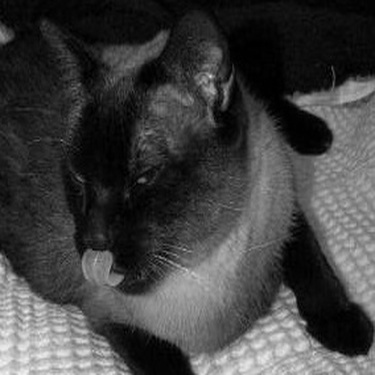cat: (1, 24, 373, 373)
